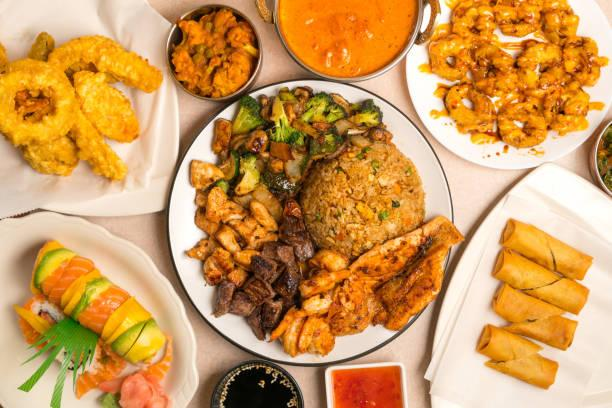Braised Crucian Carp: (165, 78, 447, 365), (0, 211, 199, 407), (4, 1, 180, 218), (404, 1, 612, 171)
